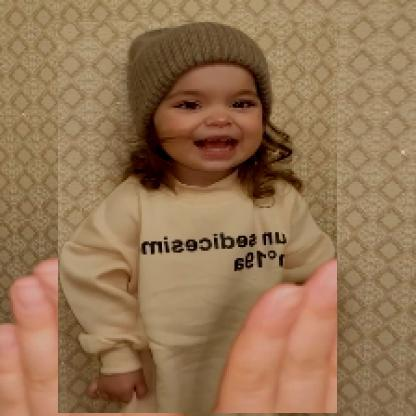child: (59, 23, 339, 415)
